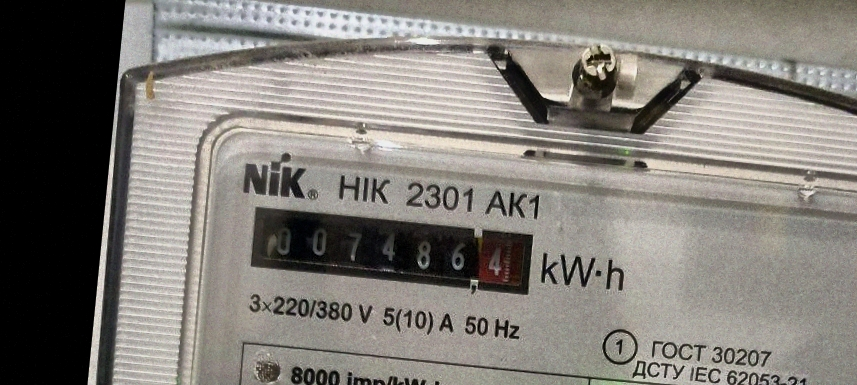0: (271, 222, 294, 258), (308, 224, 329, 258)
4: (377, 228, 398, 264), (484, 243, 504, 279)
6: (447, 239, 469, 273)
7: (340, 228, 366, 263)
8: (413, 237, 433, 274)
screen: (239, 194, 543, 307)
